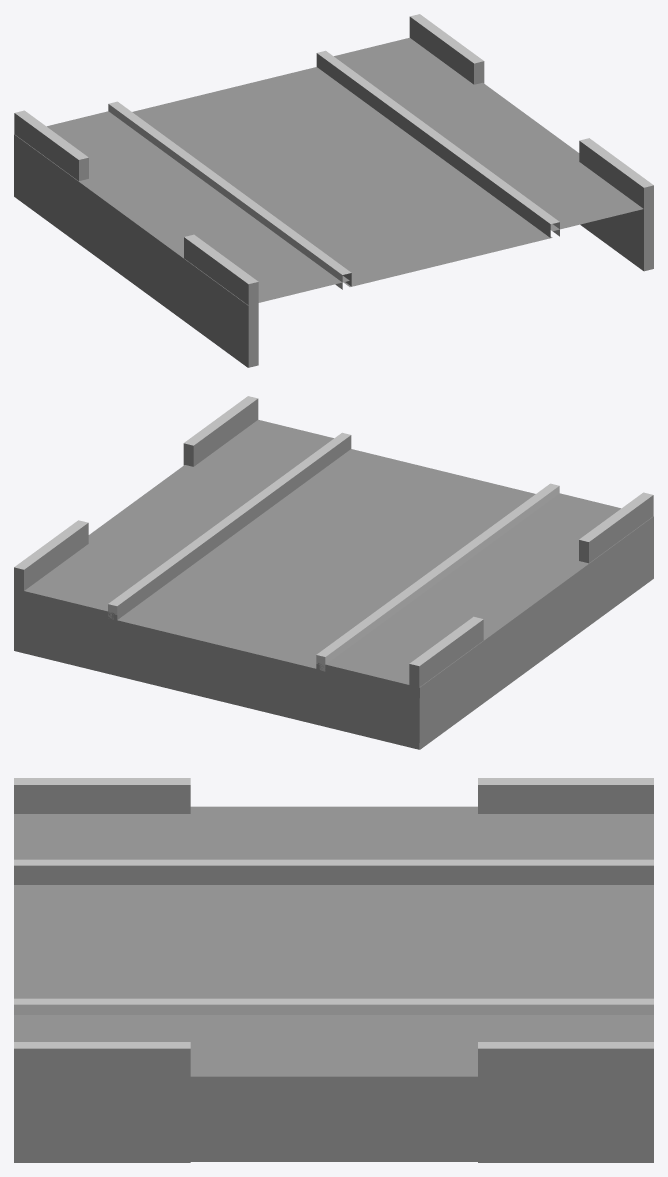
Rendered from port_tile_1x1_006.fbx.
3 renders of one model, top to bottom at view 1: azimuth 30°, elevation 25°; view 2: azimuth 150°, elevation 25°; view 3: azimuth 270°, elevation 25°, orthographic. The views are drawn at different scales.
Visible parts, largest first — view 1: port_tile_1x1_006; view 2: port_tile_1x1_006; view 3: port_tile_1x1_006.
Part boxes in pixels (x1=…): port_tile_1x1_006: x1=14, y1=14, x2=653, y2=367; port_tile_1x1_006: x1=14, y1=396, x2=653, y2=749; port_tile_1x1_006: x1=14, y1=778, x2=653, y2=1162.
Bounding box in the file's own units: 801 × 158 × 800.
